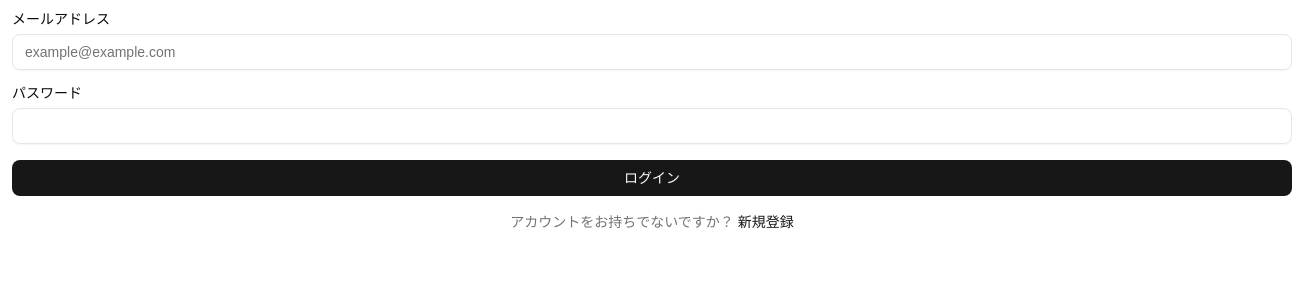
Test: LoginForm › should display server error message
In the field labelled "メールアドレス": {"x": 652, "y": 52} x1=12 y1=34 x2=1292 y2=70, type "test@example.com"
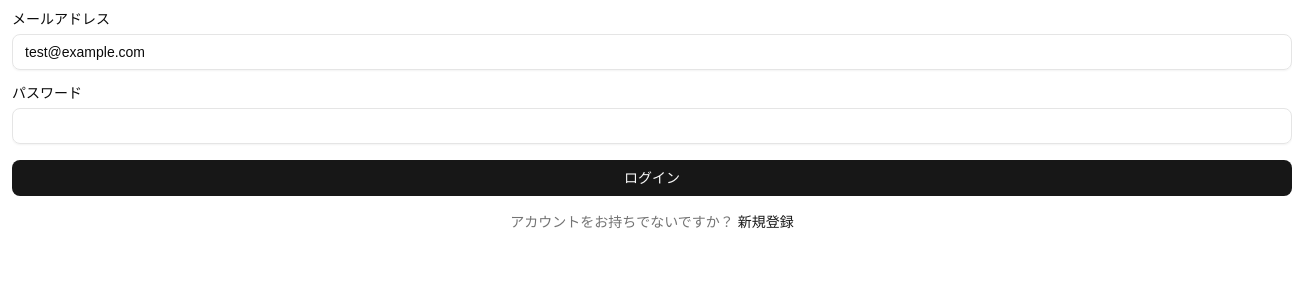
In the password field labelled "パスワード": {"x": 652, "y": 126} x1=12 y1=108 x2=1292 y2=144, type "wrongpassword"
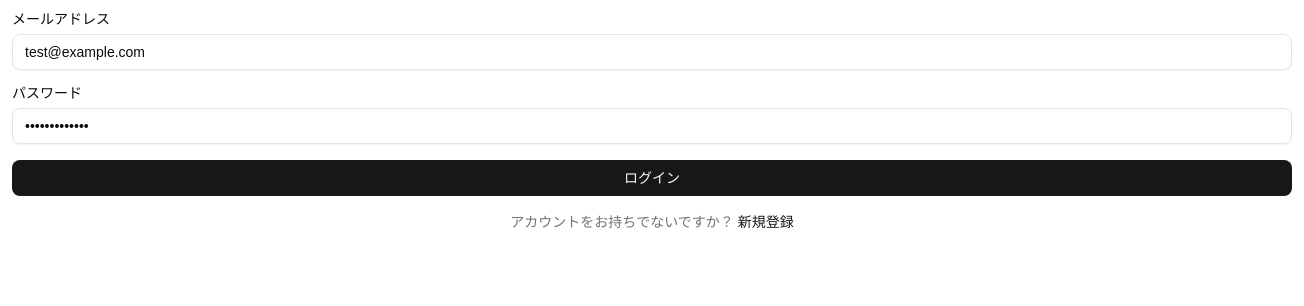
Click the button "ログイン": {"x": 652, "y": 178} x1=12 y1=160 x2=1292 y2=196
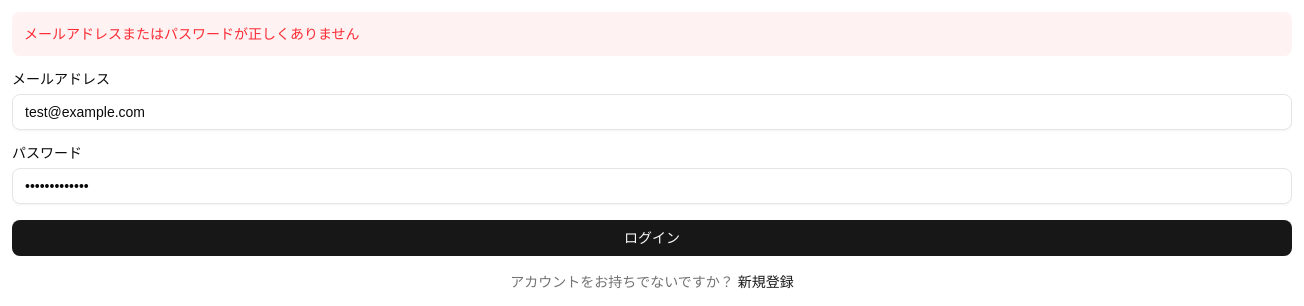
Expected: the text "メールアドレスまたはパスワードが正しくありません" is shown, x1=12 y1=12 x2=1292 y2=56
